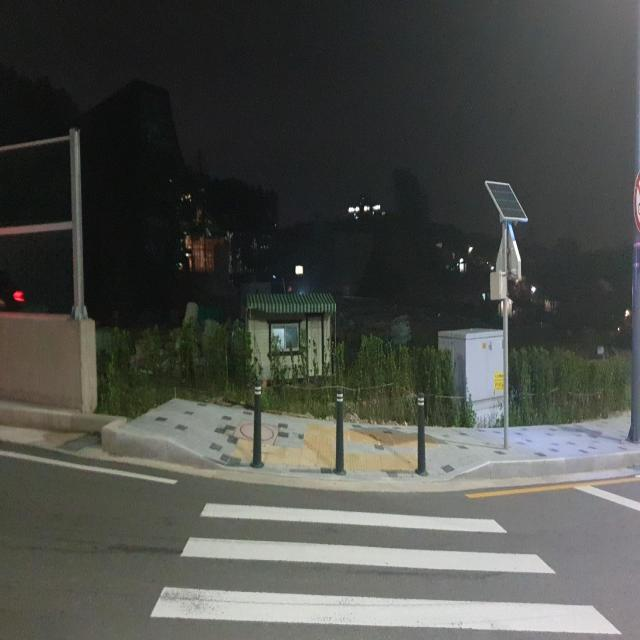횡단보도: (149, 500, 624, 639)
